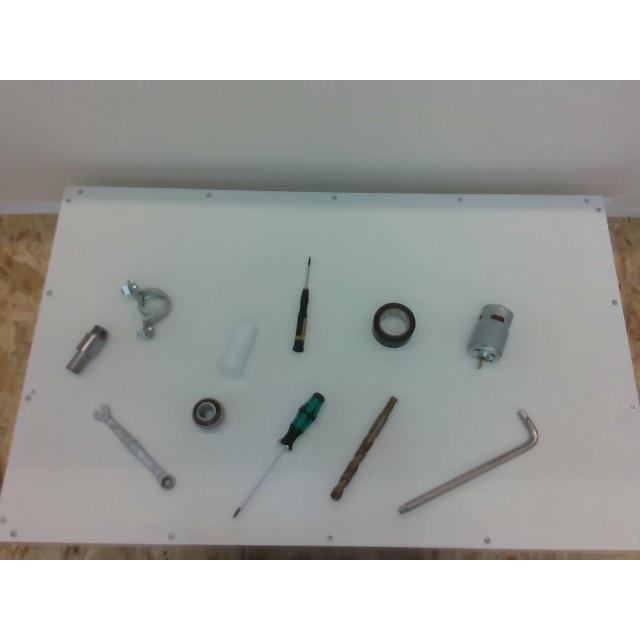AllenKey: (398, 409, 538, 513)
Axis2: (66, 325, 106, 373)
Bearing2: (192, 398, 224, 428)
Drill: (330, 396, 398, 500)
Housing: (121, 280, 171, 338)
Motor2: (468, 304, 512, 366)
Screwdriver: (232, 392, 324, 516)
Spacer: (217, 320, 256, 378)
Wrench: (93, 404, 175, 488)
